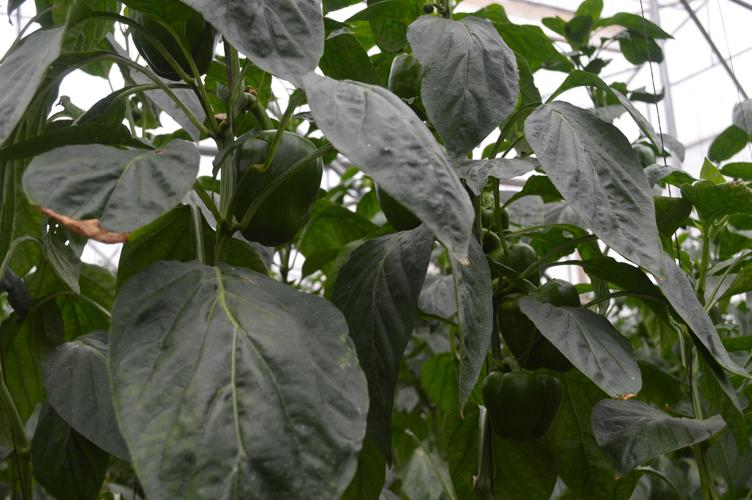BellPepper: (218, 125, 336, 257), (495, 281, 596, 377), (481, 361, 562, 453)
